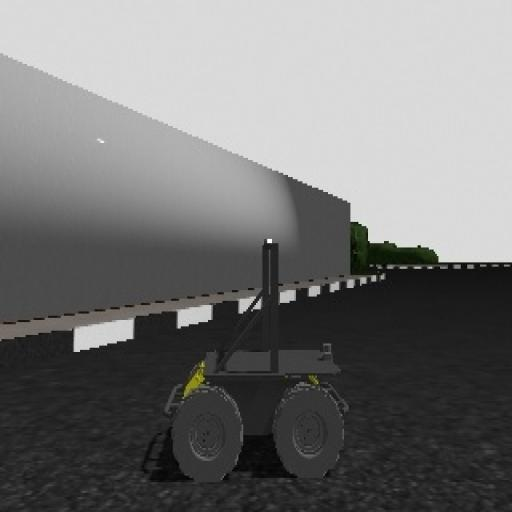huskya200: (130, 227, 375, 486)
